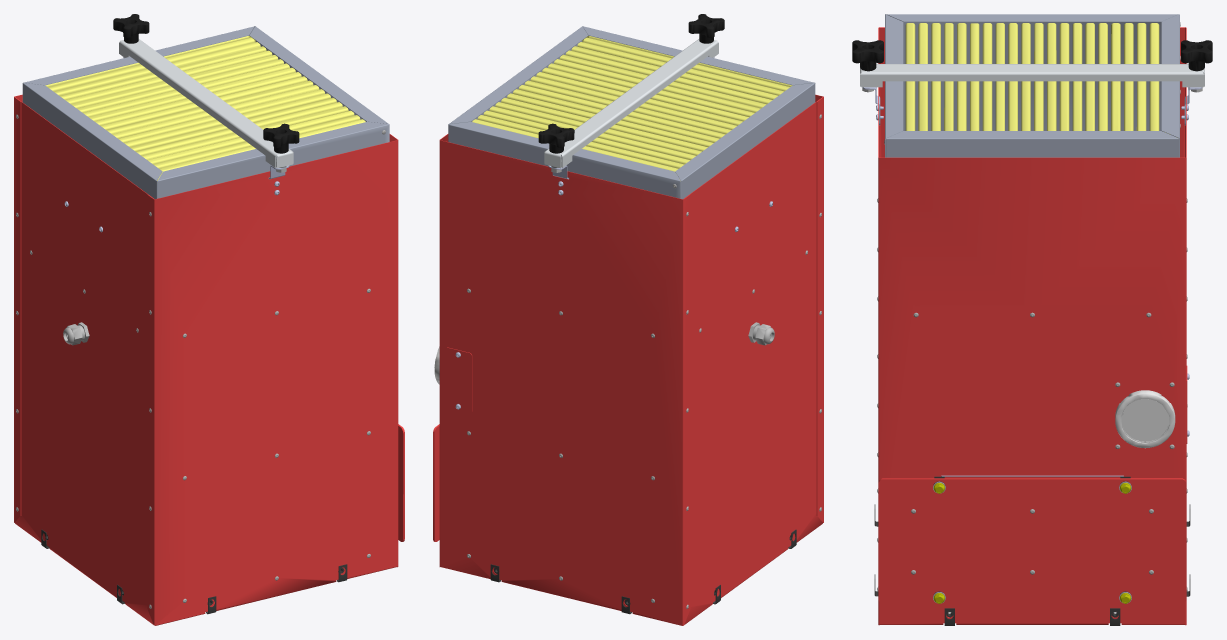
File: MF-550-210-B.balanced.glb
3 renders of one model, left to right at view 1: azimuth 30°, elevation 25°; view 2: azimuth 150°, elevation 25°; view 3: azimuth 270°, elevation 25°, orthographic. The views are drawn at different scales.
Parts seen in each view (by area): view 1: n195, n197, n104, n93, n234, n92, n224, n23, n24; view 2: n195, n197, n104, n92, n93, n234, n209, n224, n24, n23; view 3: n195, n224, n104, n93, n92, n234, n11, n197, n23, n24.
Part boxes in pixels (left/top/right/bottom): n195: left=14, top=94, right=398, bottom=625; n197: left=15, top=97, right=154, bottom=625; n104: left=45, top=36, right=365, bottom=180; n93: left=22, top=83, right=389, bottom=199; n234: left=119, top=39, right=293, bottom=168; n92: left=23, top=26, right=389, bottom=124; n224: left=398, top=424, right=404, bottom=541; n23: left=263, top=123, right=299, bottom=153; n24: left=113, top=14, right=149, bottom=43; n195: left=439, top=94, right=823, bottom=625; n197: left=682, top=97, right=822, bottom=625; n104: left=472, top=36, right=792, bottom=171; n92: left=448, top=26, right=680, bottom=198; n93: left=583, top=26, right=815, bottom=199; n234: left=544, top=39, right=718, bottom=168; n209: left=445, top=347, right=472, bottom=412; n224: left=433, top=424, right=439, bottom=541; n24: left=538, top=123, right=574, bottom=153; n23: left=688, top=14, right=724, bottom=43; n195: left=878, top=27, right=1186, bottom=625; n224: left=878, top=478, right=1186, bottom=604; n104: left=905, top=23, right=1176, bottom=137; n93: left=885, top=14, right=1178, bottom=157; n92: left=885, top=14, right=1179, bottom=157; n234: left=860, top=64, right=1204, bottom=87; n11: left=1115, top=390, right=1175, bottom=448; n197: left=880, top=27, right=1184, bottom=157; n23: left=852, top=40, right=883, bottom=71; n24: left=1181, top=40, right=1212, bottom=71.
Bounding box in the file's own units: 0.4275 × 0.6962 × 0.4423.
